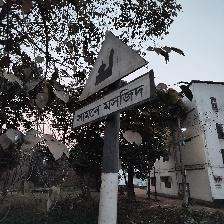Mosque in front: (72, 31, 155, 130)
